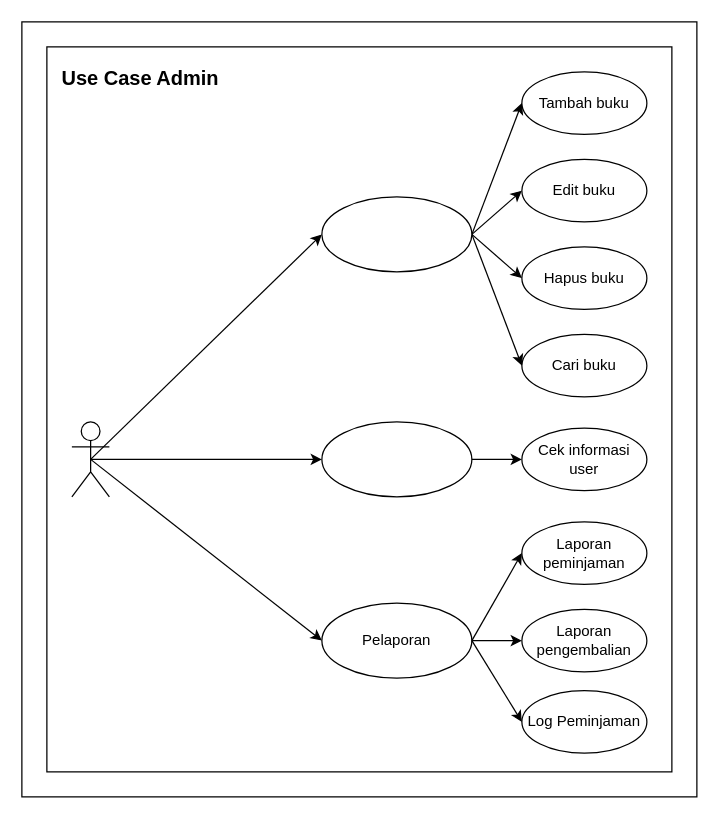
This 719x819 diagram has some shape labels left out. Each missing label, with the box of its shape:
Admin: (71, 421, 109, 497)
Manajemen Buku: (321, 196, 472, 272)
Manajemen User: (321, 421, 472, 497)
